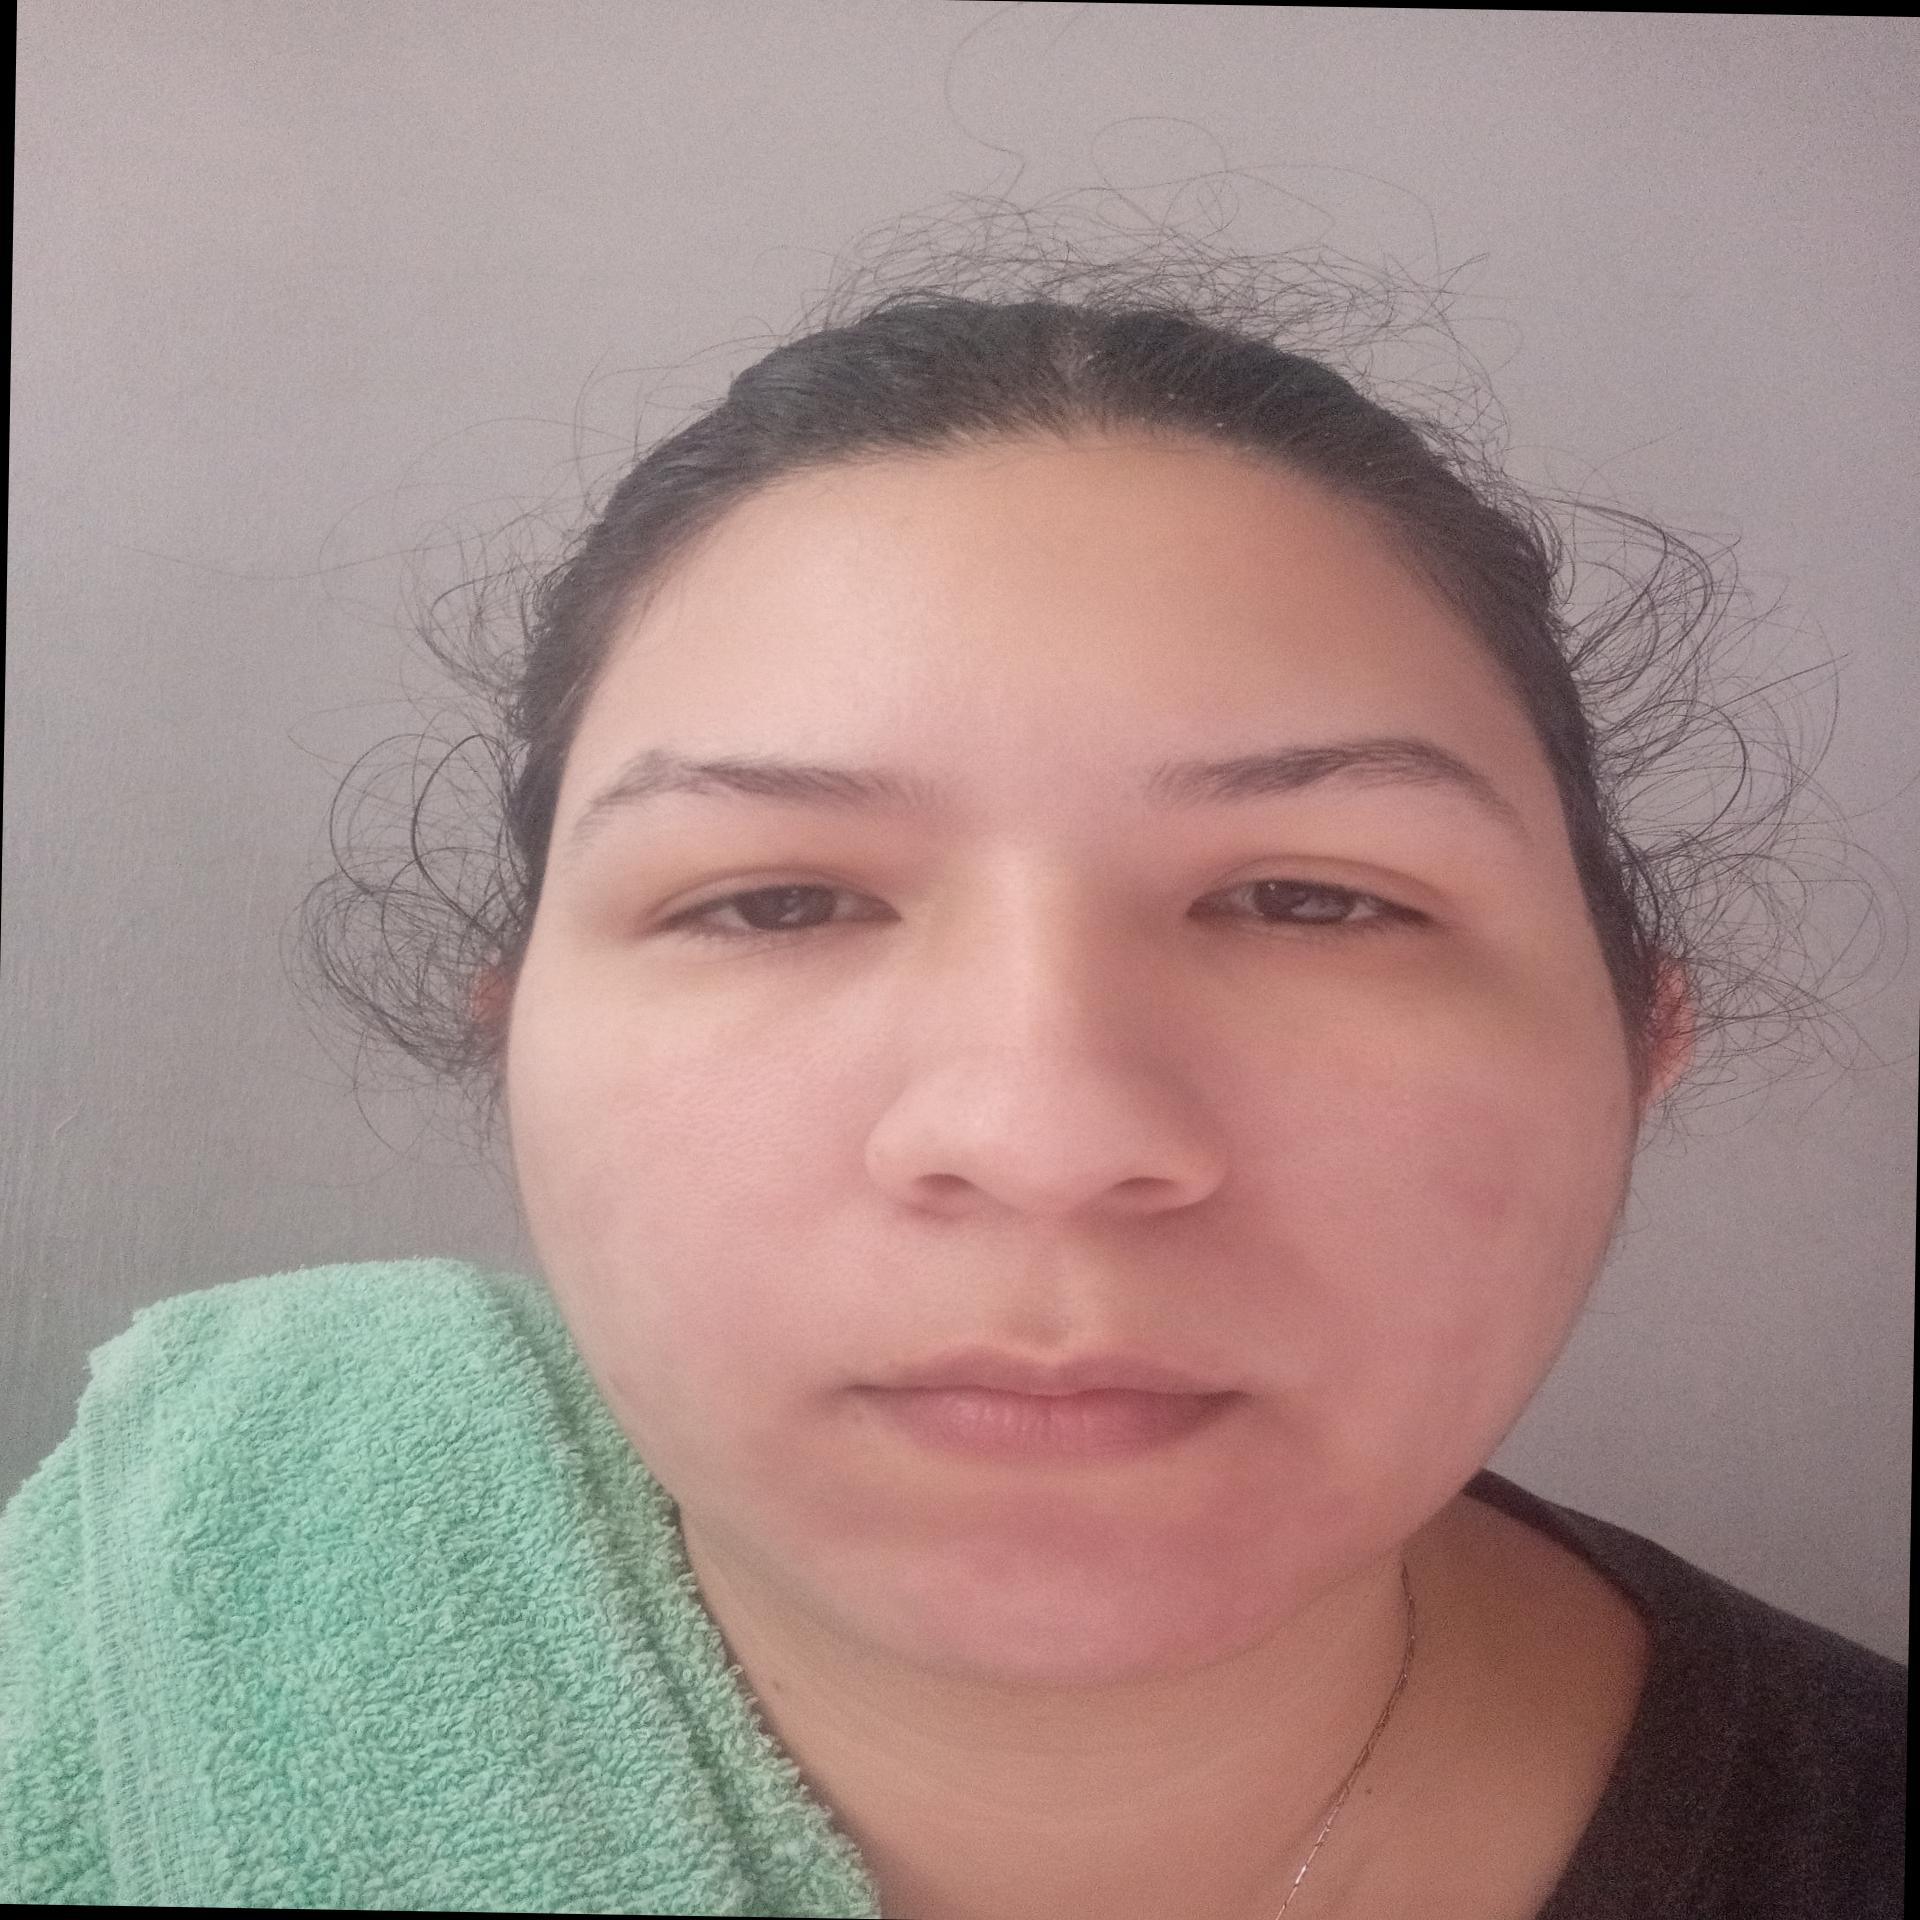Acne: (1389, 1303, 1496, 1391), (1436, 1171, 1530, 1238), (1271, 1489, 1364, 1545)
Englarged Pores: (652, 1034, 855, 1240), (1250, 1062, 1436, 1231)
